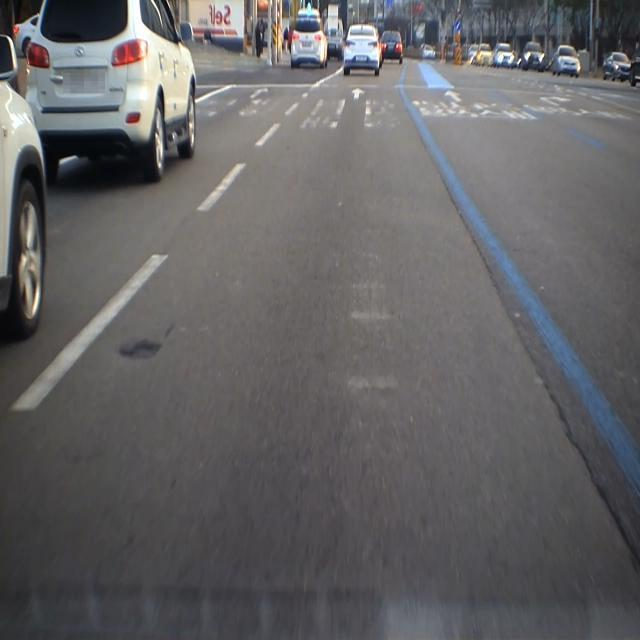pothole: (108, 313, 183, 383)
